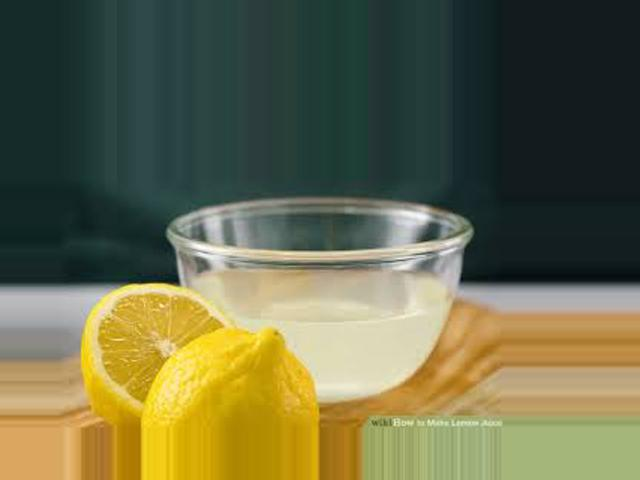lemon: (88, 280, 316, 429)
